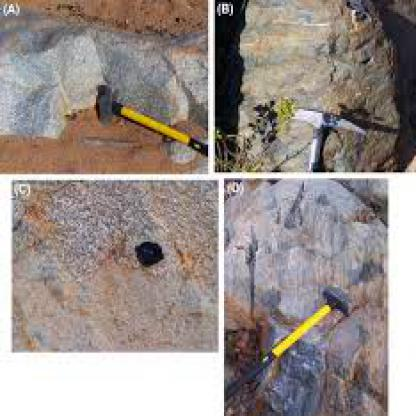Igneous_Diorite: (128, 228, 165, 277)
